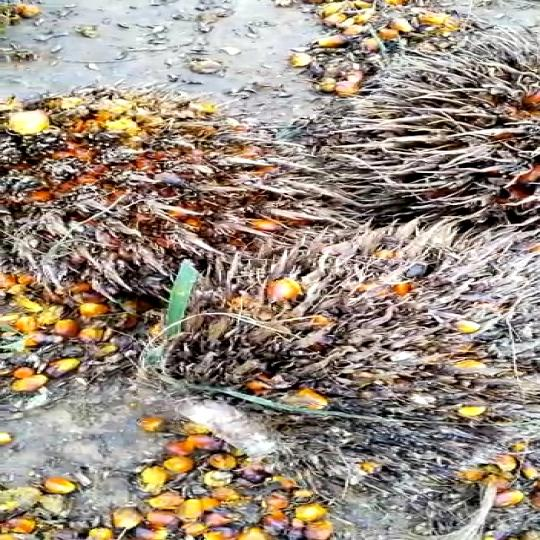terlalu masak: (136, 220, 540, 475), (0, 81, 291, 310)
